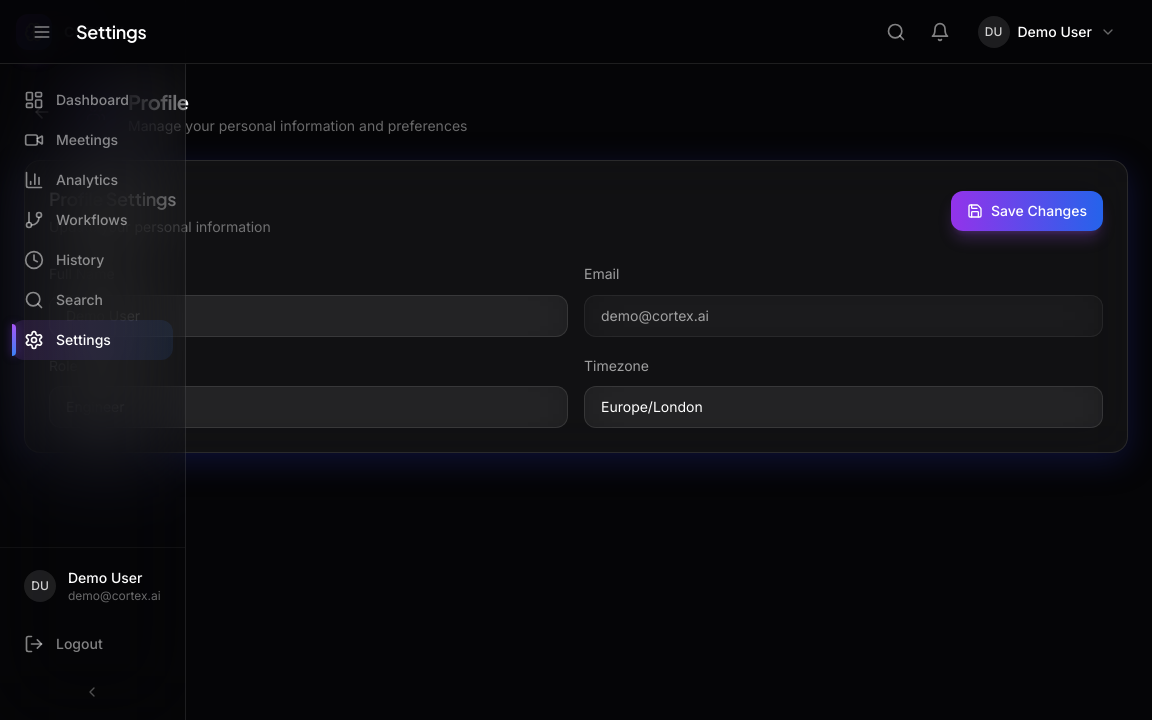
Test: Profile Settings › shows error message on failed save
Step 1. Click the button with test id "save-profile" → point(1027, 211), box [951,191,1103,231]
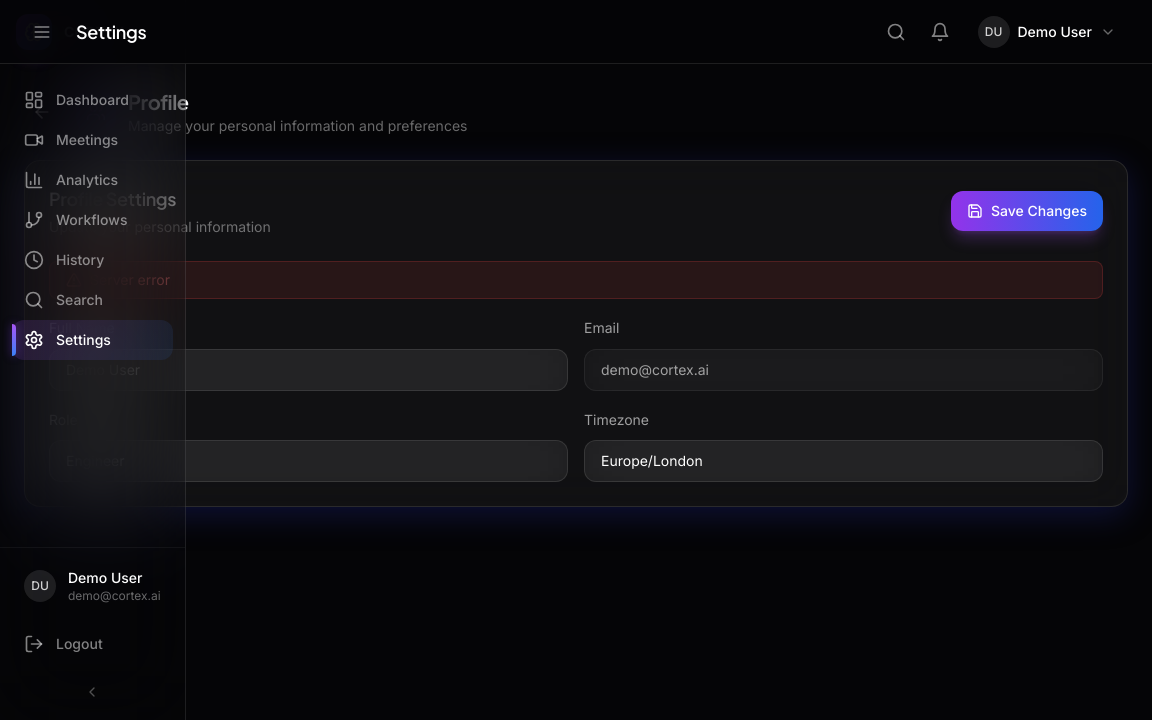
Check: the element with test id "profile-error" is shown, box [49,261,1103,299]
Check: the text "Server error" is shown, box [90,270,170,290]
